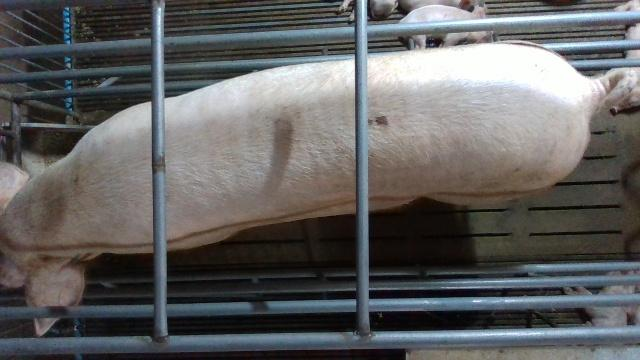piglet: (564, 271, 640, 328), (401, 5, 493, 49), (610, 0, 640, 116)
sow-stand-feed: (0, 40, 638, 331)
